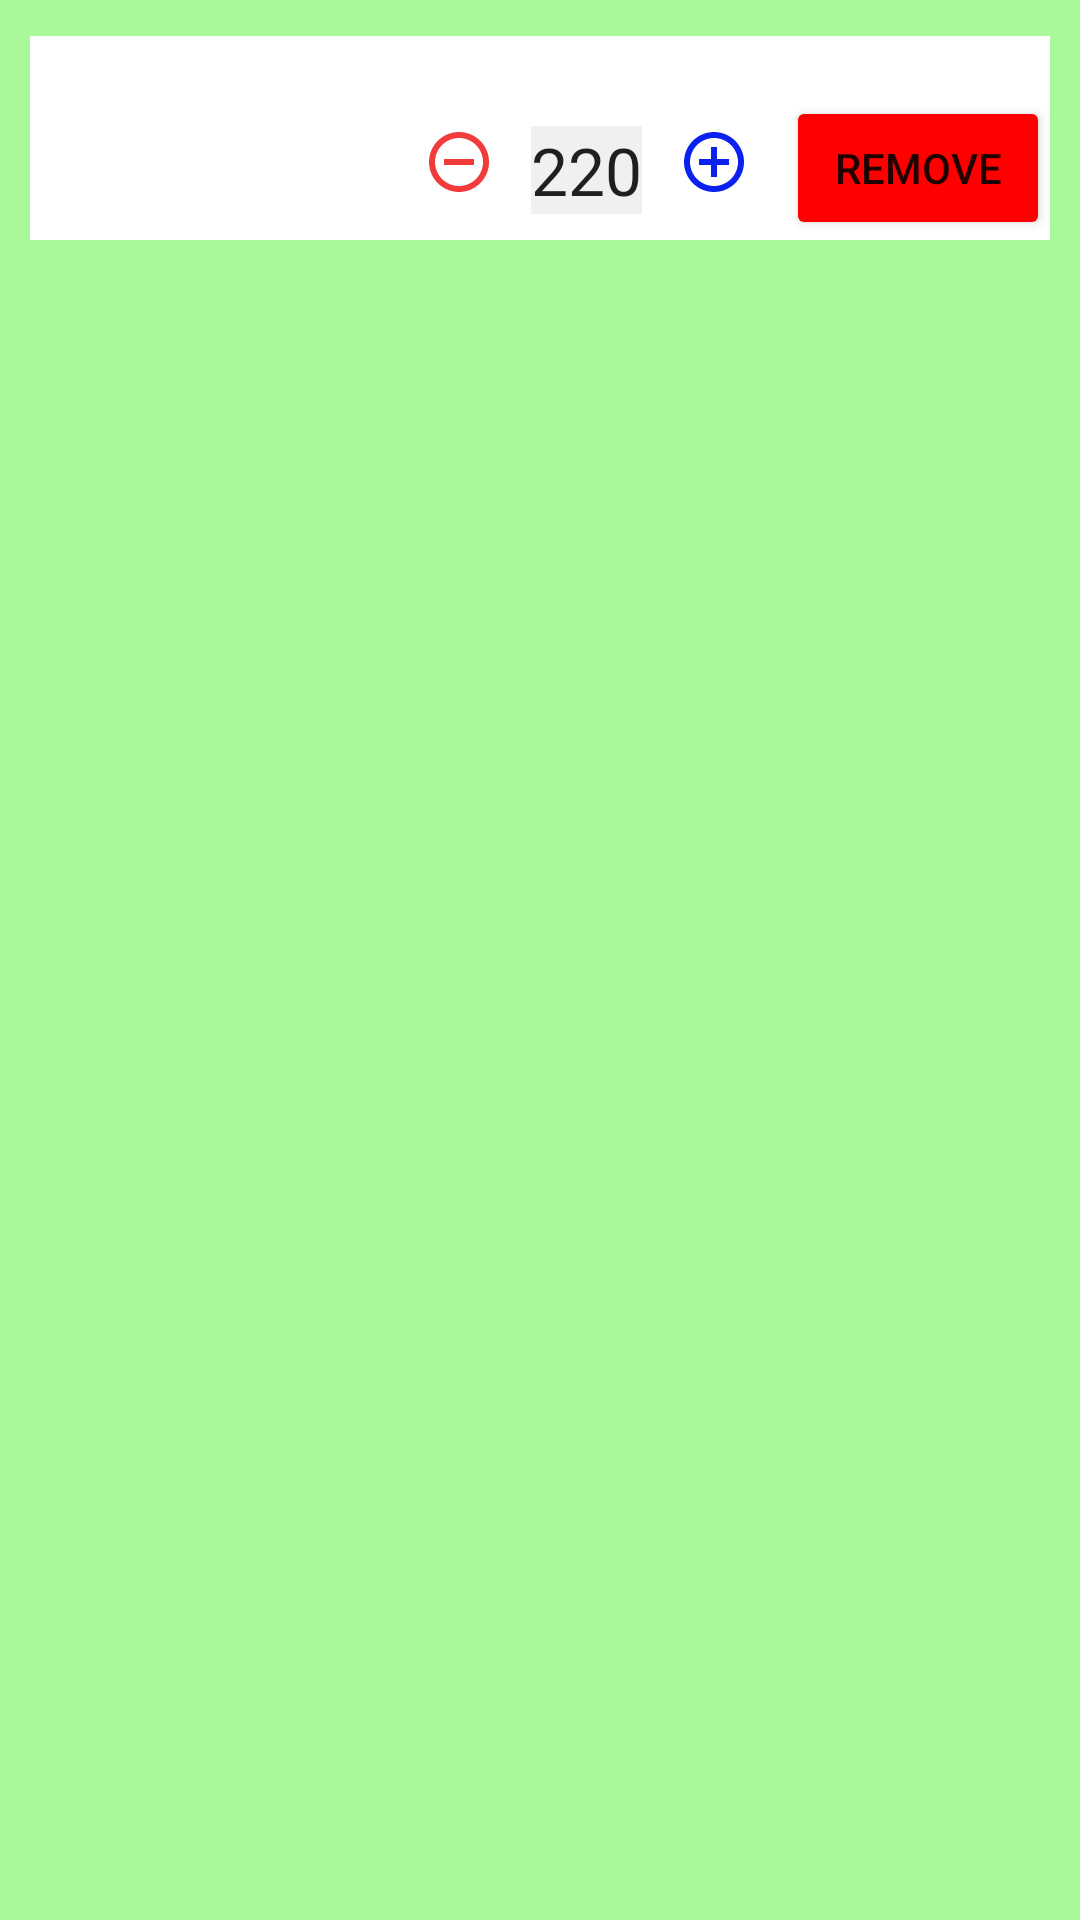

Icons on this 1080w x 1920h Android screen, each with the point to tap as [x,y]:
add circle: [714,162]
minus circle: [459,162]
